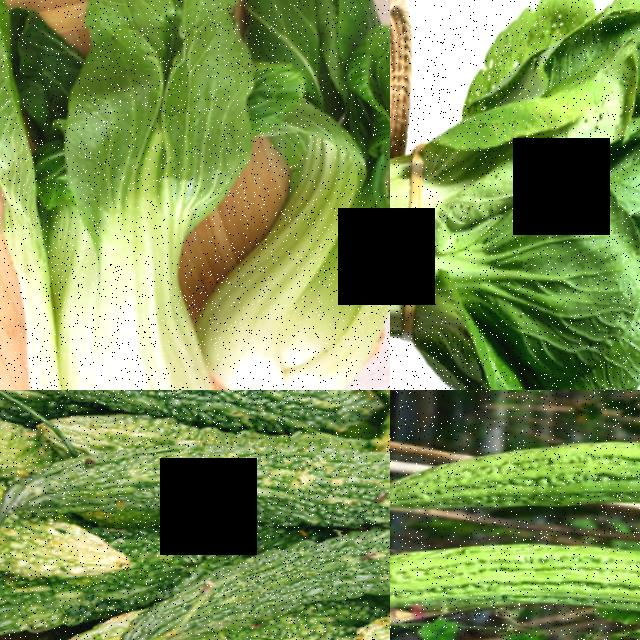bitter gourd: (17, 414, 390, 549), (390, 501, 640, 640), (390, 412, 640, 534), (0, 390, 326, 440), (295, 523, 390, 602), (0, 510, 108, 578), (191, 573, 282, 617)
bok choy: (0, 0, 272, 390), (390, 0, 640, 390), (215, 0, 390, 390)
